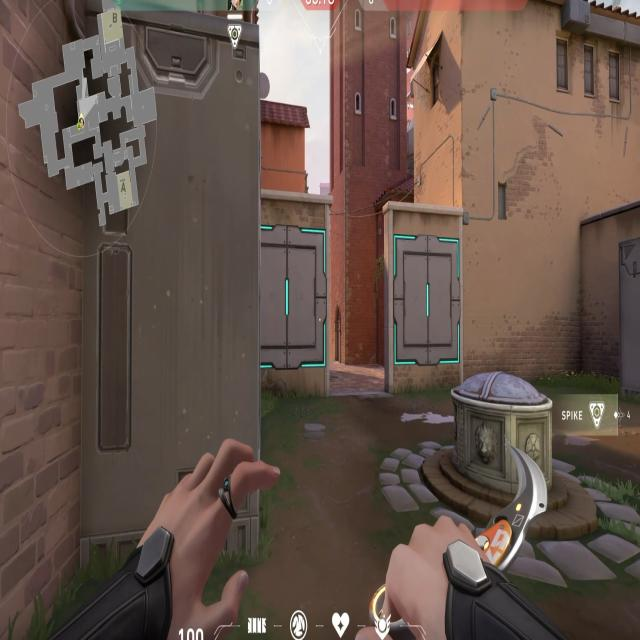Mid_Wall: (387, 228, 465, 372), (260, 222, 328, 377)
